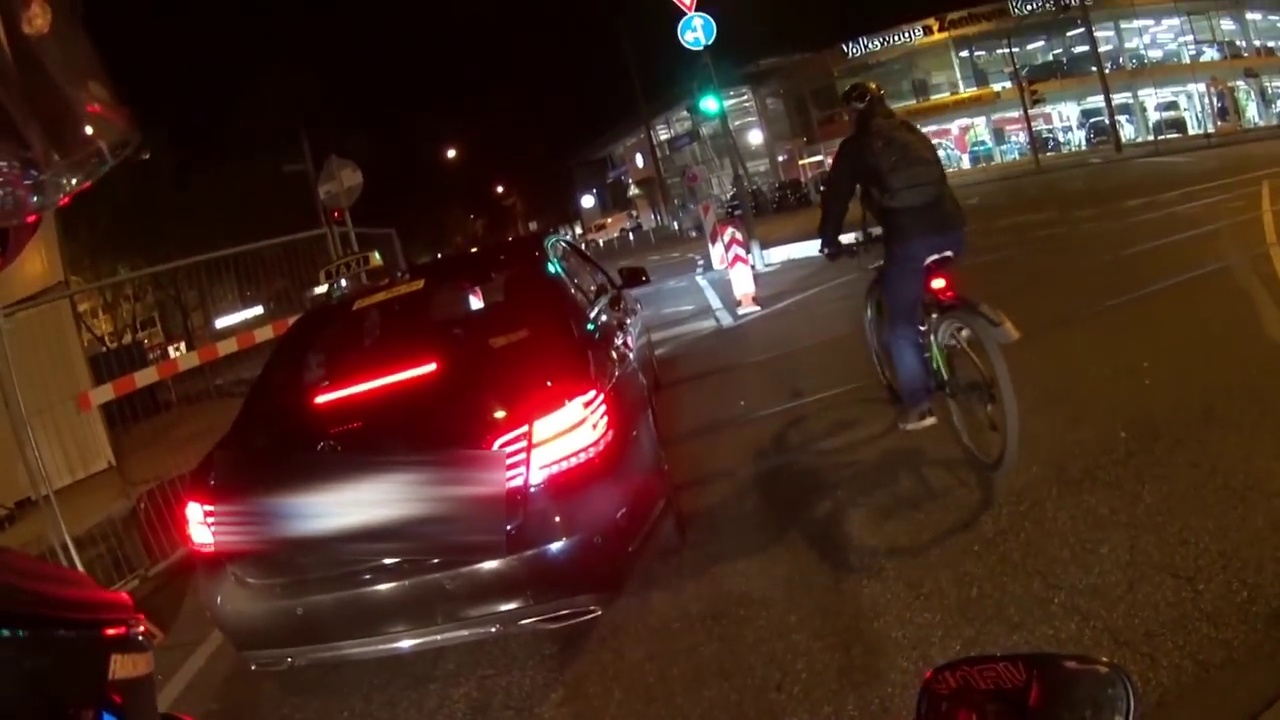cyclist_back: (821, 67, 1039, 499)
